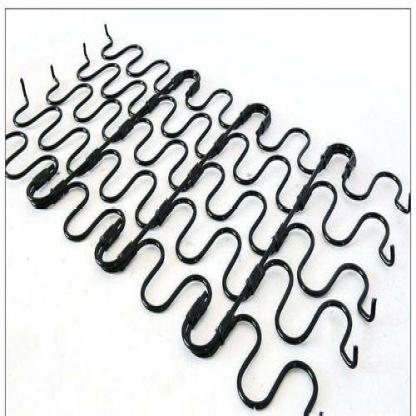FOD: (5, 18, 413, 414)
